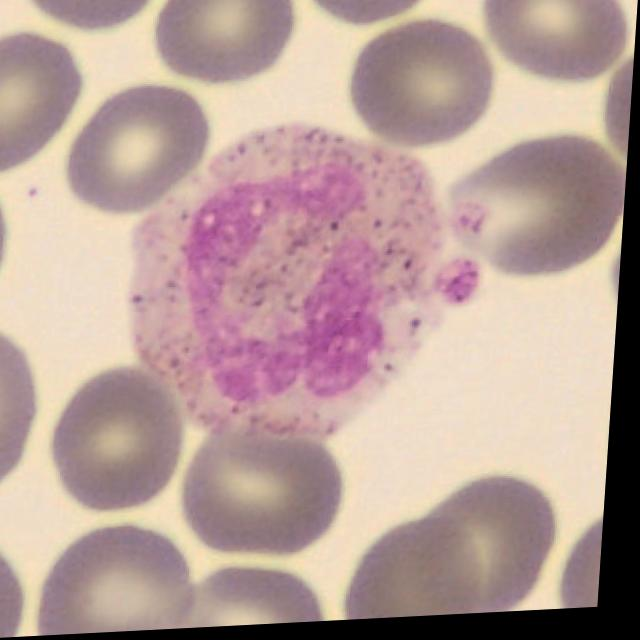Neutrofilo segmentado: (131, 127, 448, 446)
